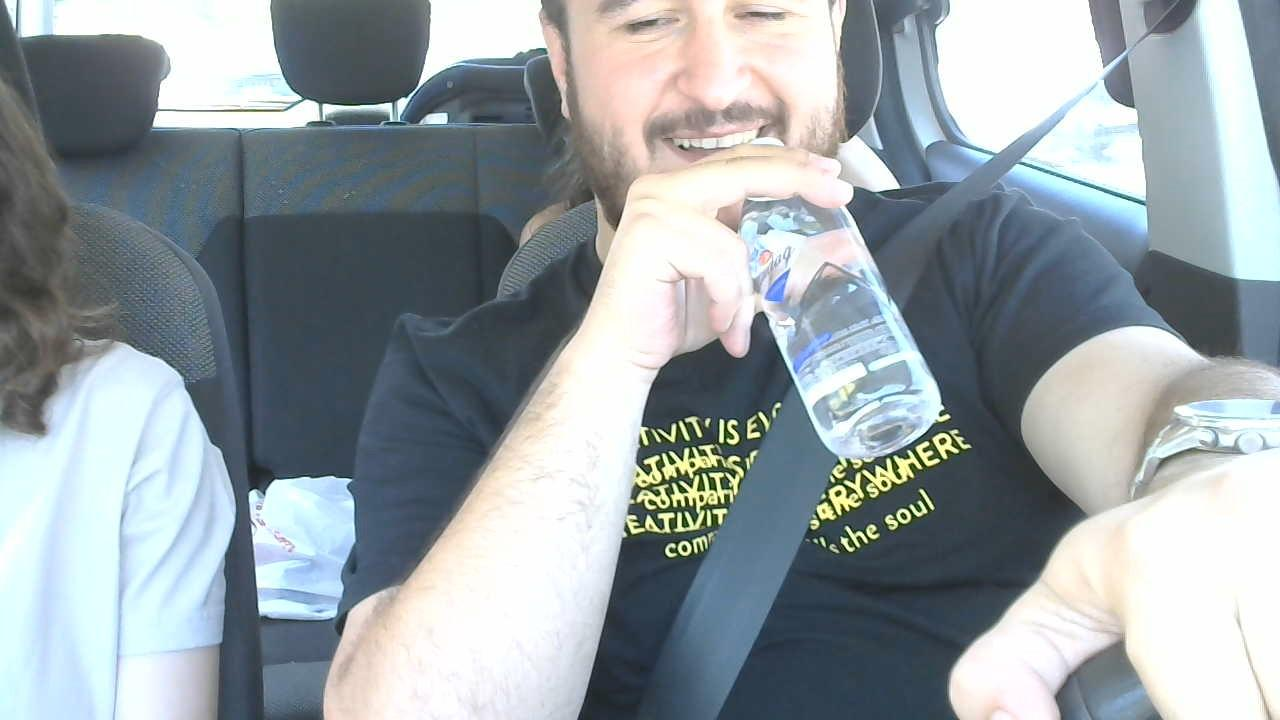Drinking: (733, 133, 945, 463)
